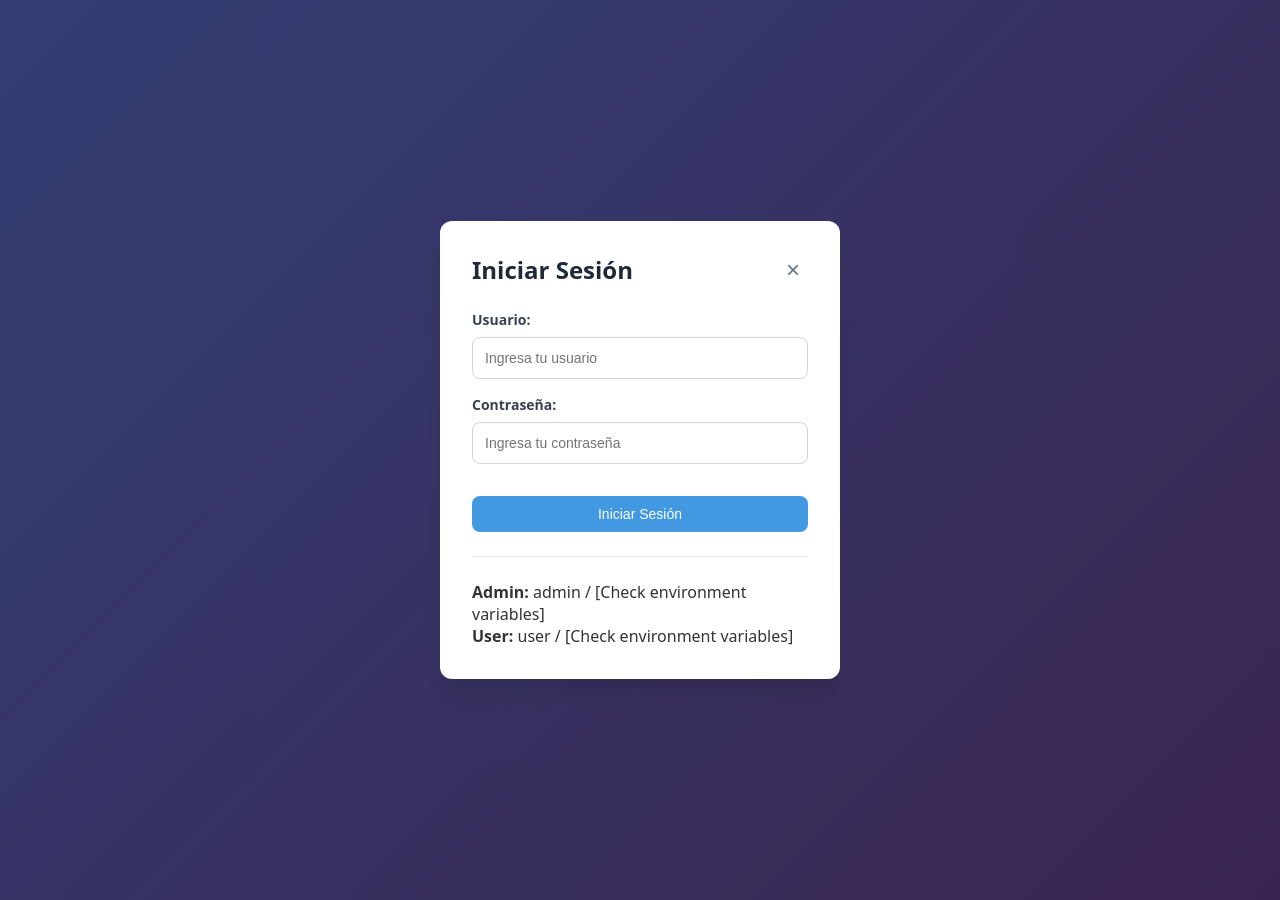
Scenario: Login Component › handles network error
Type "admin" into the field labelled "Usuario:".
click(640, 358); type("admin")  # box left=472, top=337, right=808, bottom=379
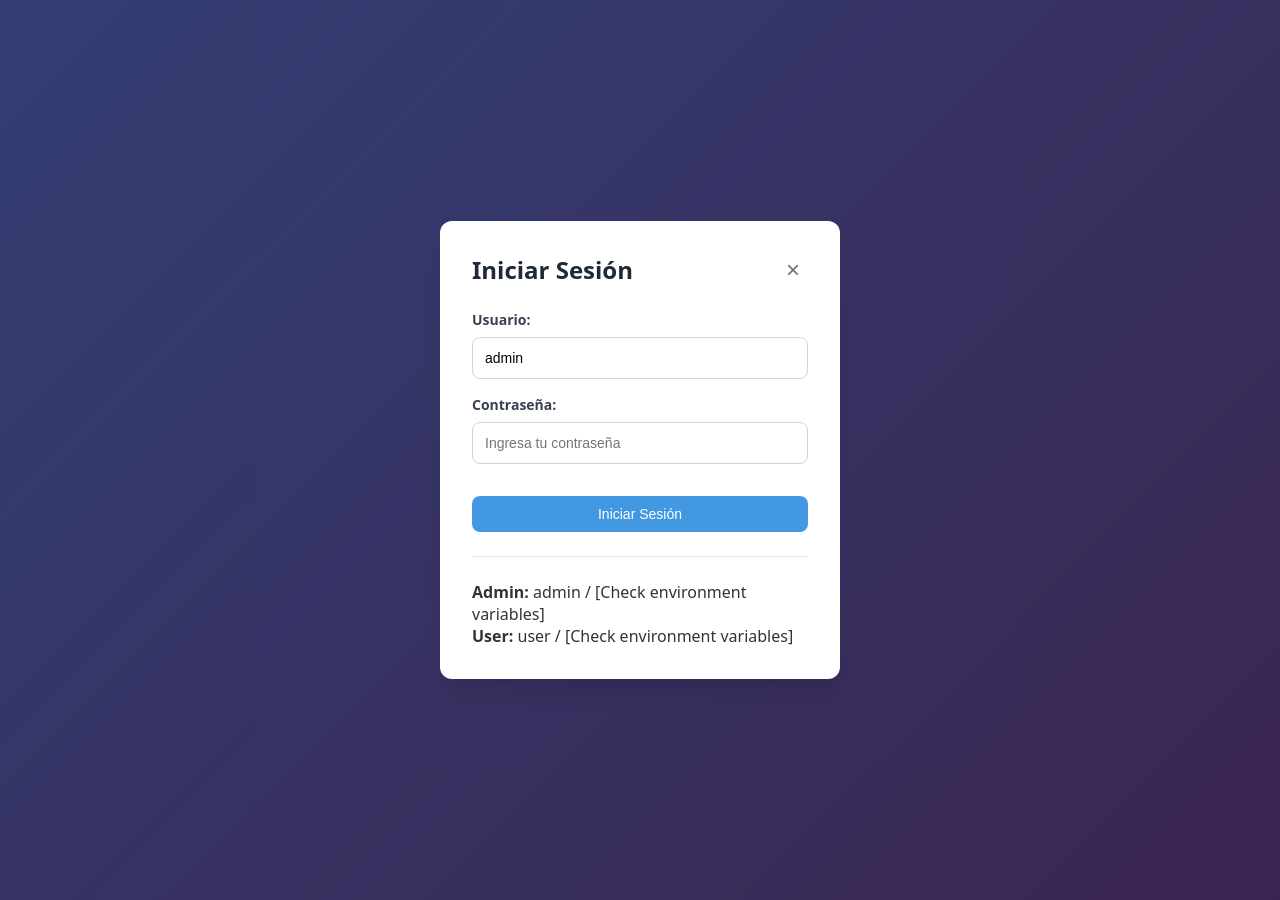
Type "admin123" into the password field labelled "Contraseña:".
click(640, 443); type("admin123")  # box left=472, top=422, right=808, bottom=464
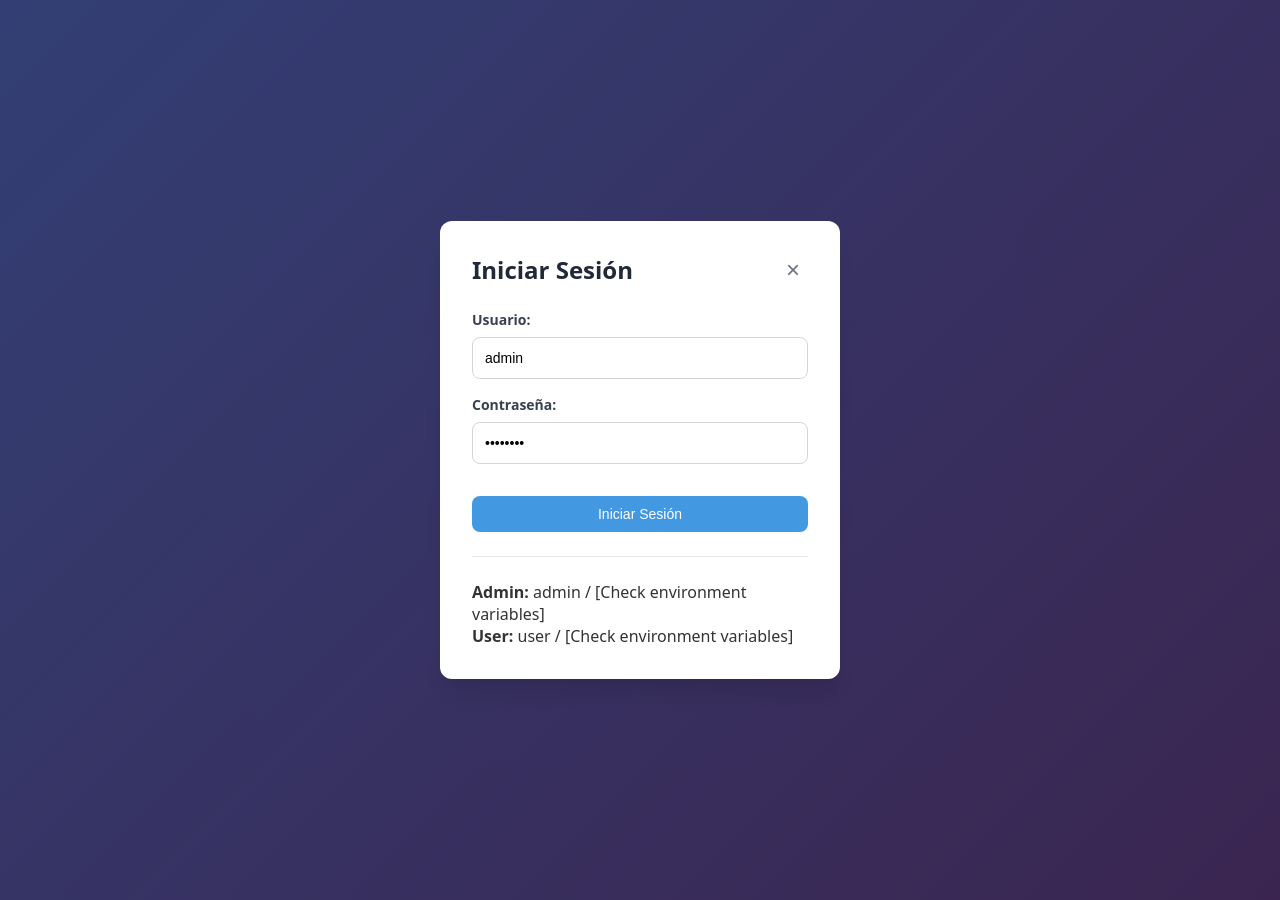
Click the button with test id "login-submit".
click(640, 514)  # box left=472, top=496, right=808, bottom=532
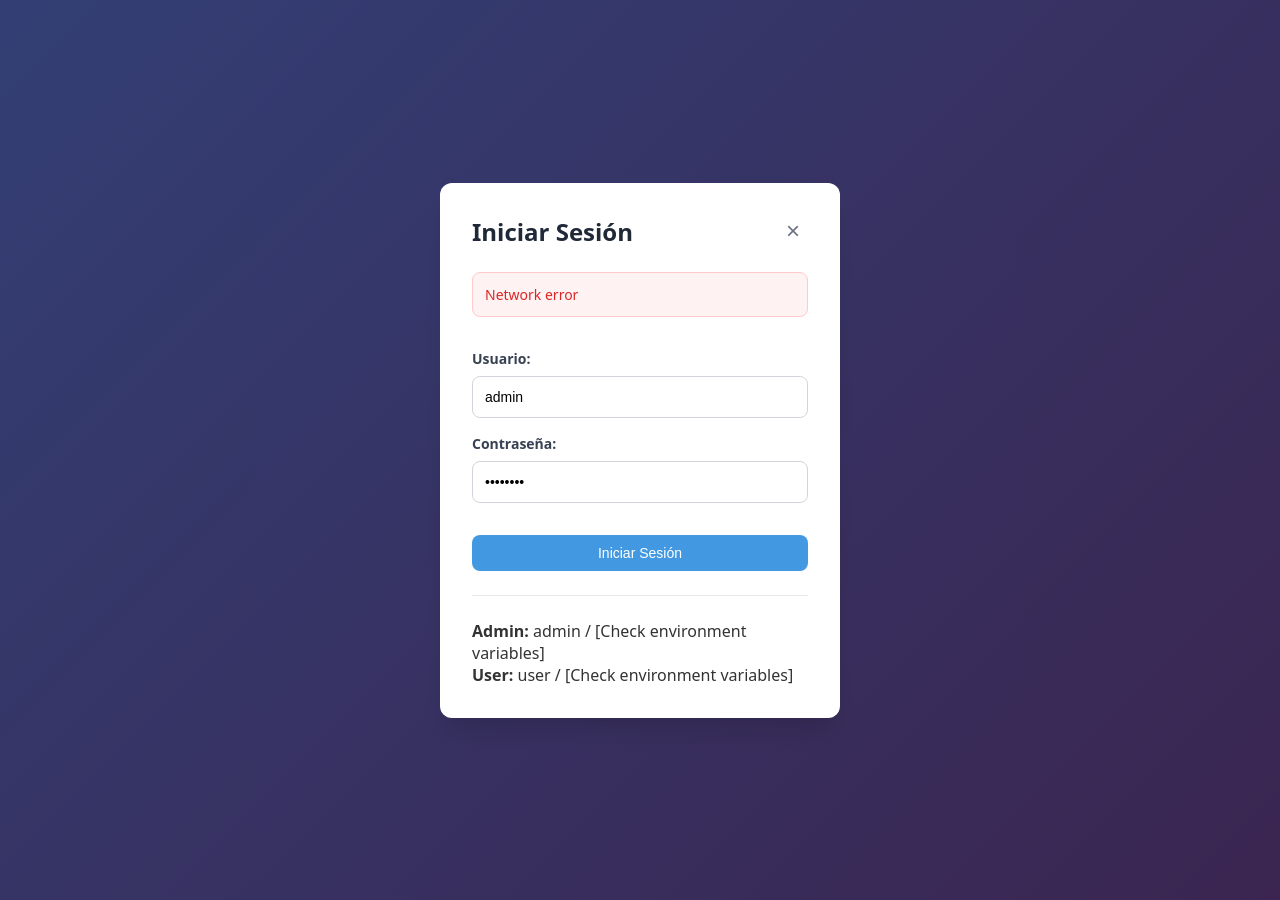
Check: the text "Network error" is shown, box left=472, top=272, right=808, bottom=316
